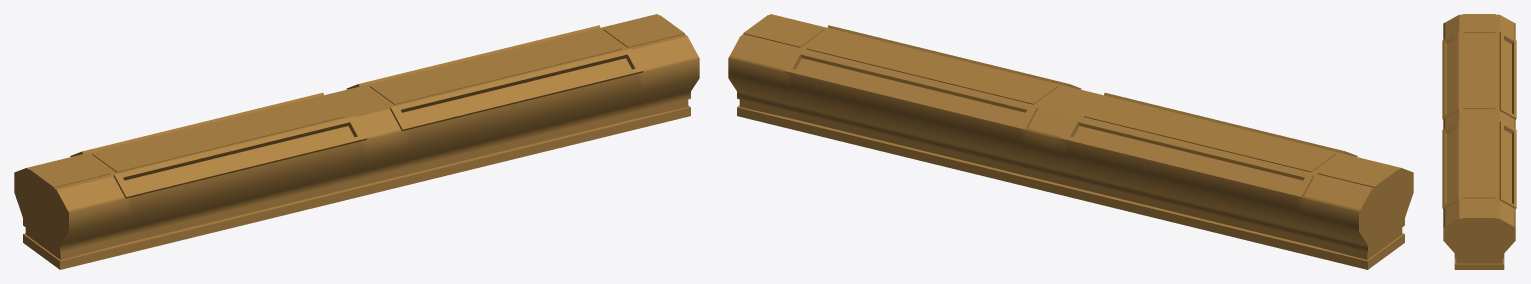
Rendered from u2_special_railing_asset.fbx.
The picture shows the model from 3 angles, left to right: view 1: azimuth 30°, elevation 25°; view 2: azimuth 150°, elevation 25°; view 3: azimuth 270°, elevation 25°; orthographic projection. The views are drawn at different scales.
Visible parts, largest first — view 1: pasted__pCube27; view 2: pasted__pCube27; view 3: pasted__pCube27.
Part boxes in pixels (box(x1,y1,x2,y2)): pasted__pCube27: box(14, 14, 699, 269); pasted__pCube27: box(728, 14, 1413, 269); pasted__pCube27: box(1442, 14, 1516, 269).
Size of the model in its own units: 4.98 by 0.599 by 0.7675.
